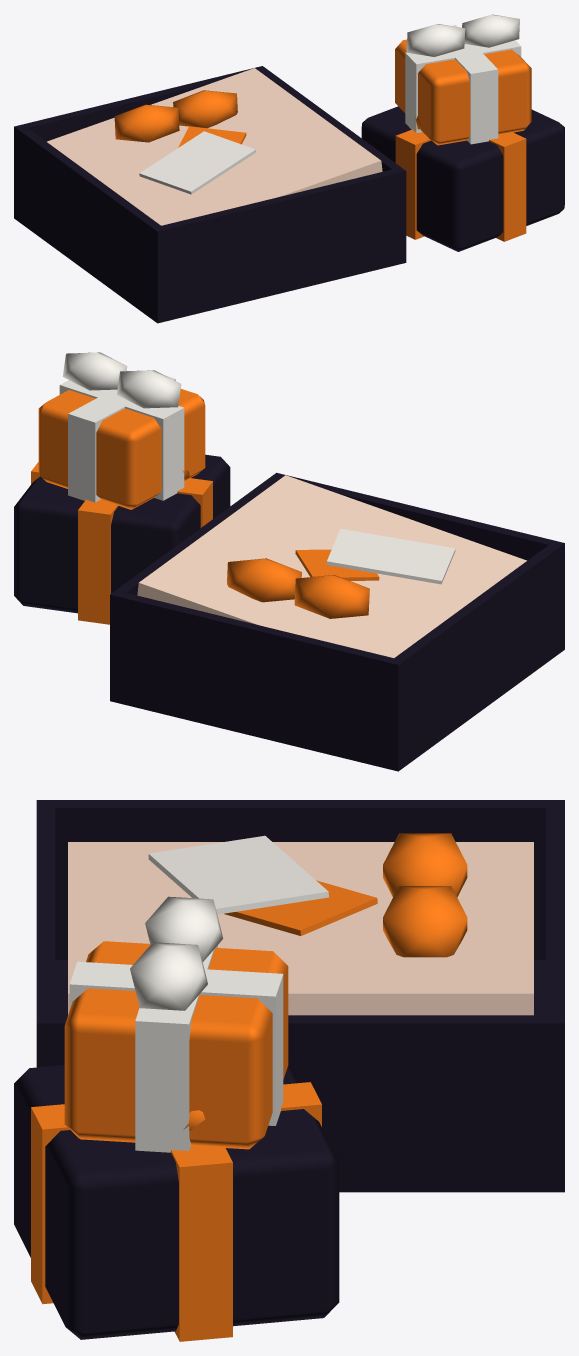
The model's file is station_processing_ausstattung_1_3.glb.
The picture shows the model from 3 angles, top to bottom: view 1: azimuth 30°, elevation 25°; view 2: azimuth 150°, elevation 25°; view 3: azimuth 270°, elevation 25°; orthographic projection. The views are drawn at different scales.
Visible parts, largest first — view 1: station_processing_ausstattung_1_3; view 2: station_processing_ausstattung_1_3; view 3: station_processing_ausstattung_1_3.
Part boxes in pixels (left/top/right/bottom): station_processing_ausstattung_1_3: left=14, top=14, right=564, bottom=323; station_processing_ausstattung_1_3: left=14, top=352, right=564, bottom=771; station_processing_ausstattung_1_3: left=14, top=800, right=564, bottom=1341.
Bounding box in the file's own units: 0.5747 × 0.253 × 0.3547.
